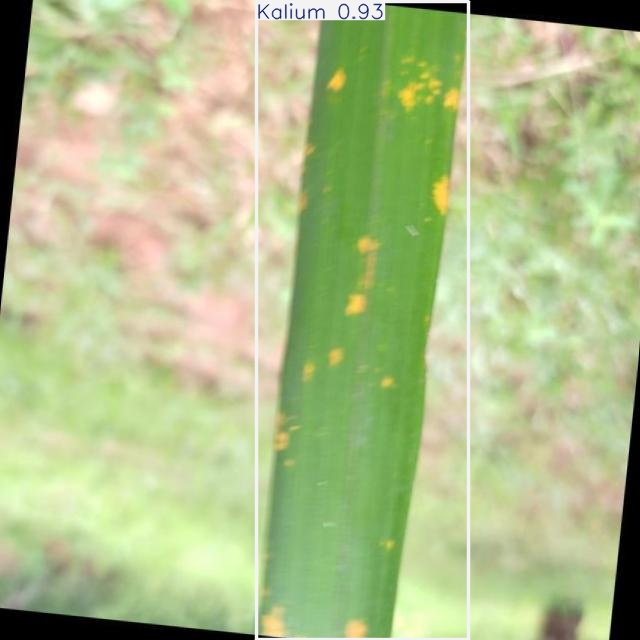Kalium: (256, 1, 469, 639)
